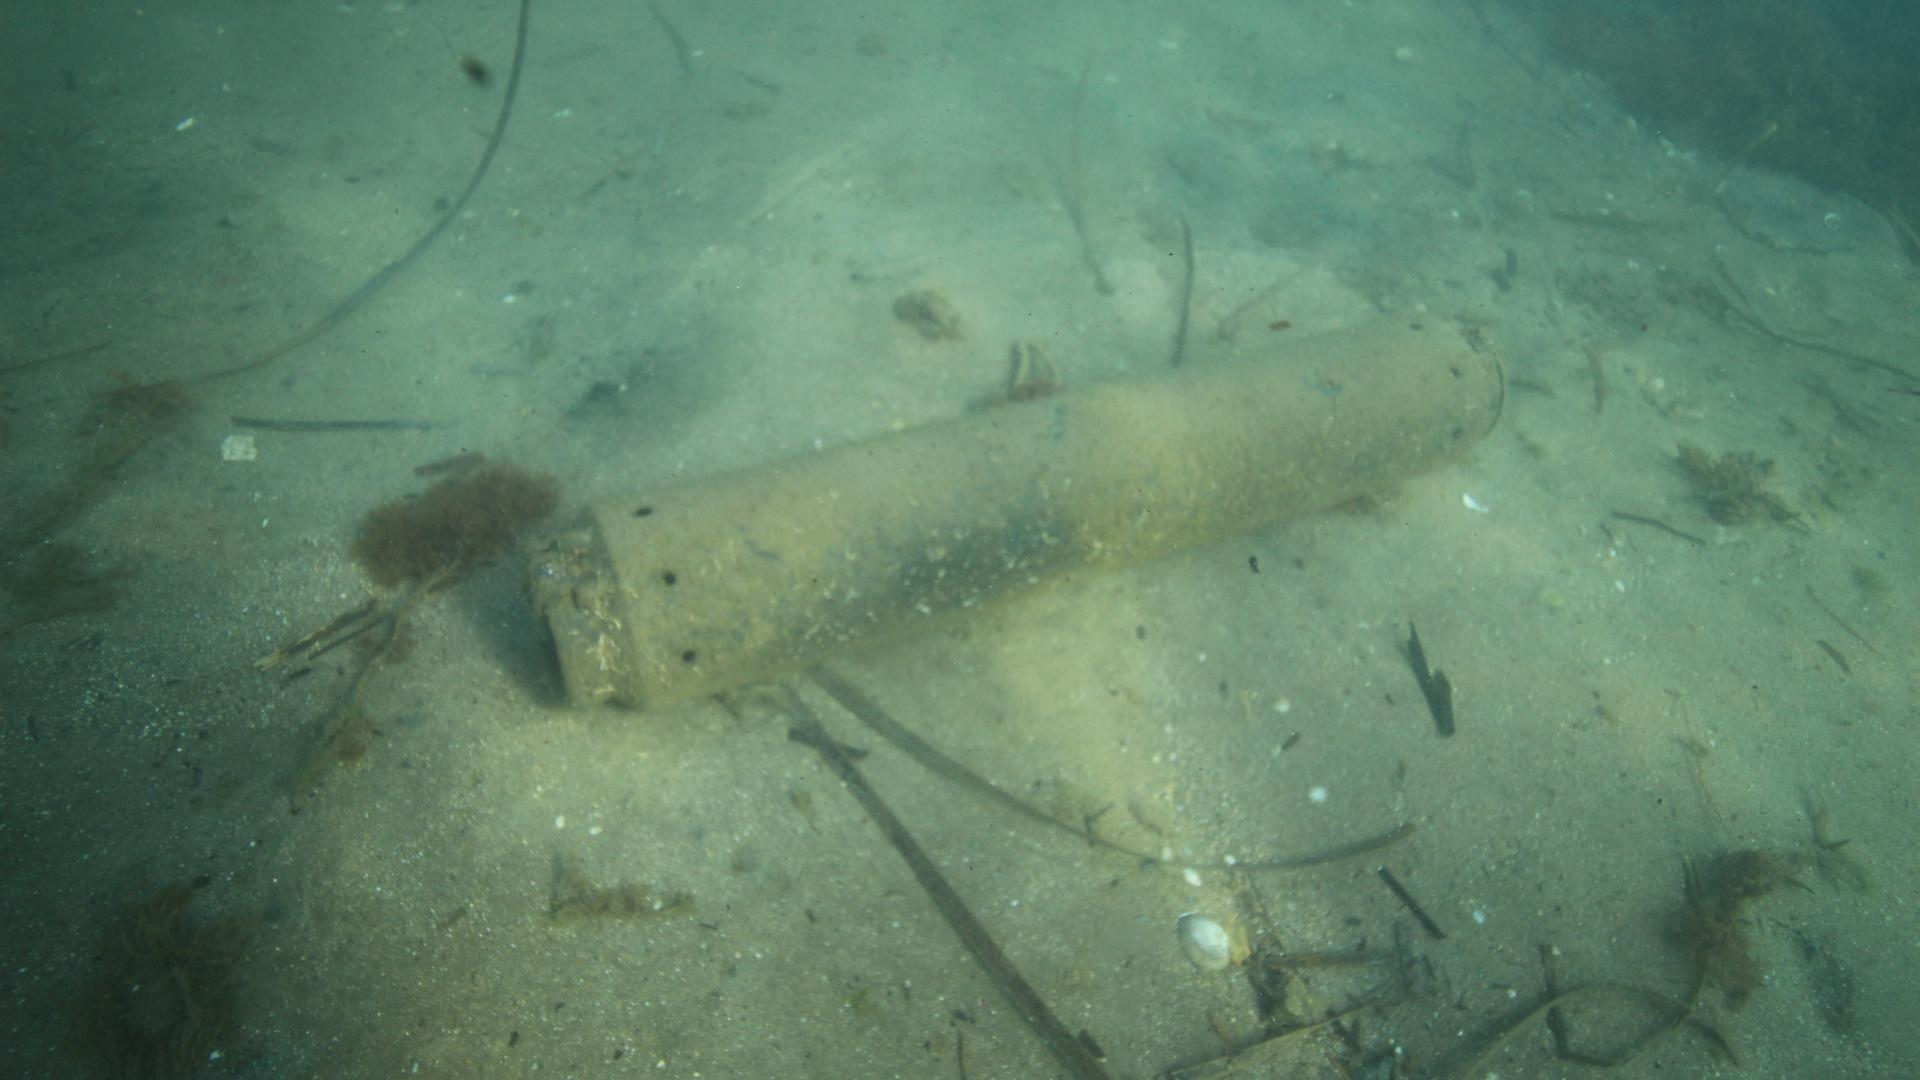eel fish trap: (525, 316, 1510, 721)
